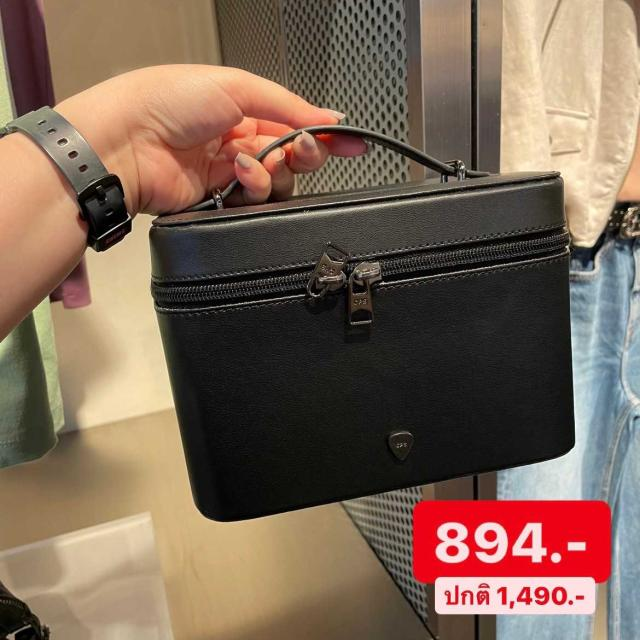handbag: (151, 123, 575, 524)
